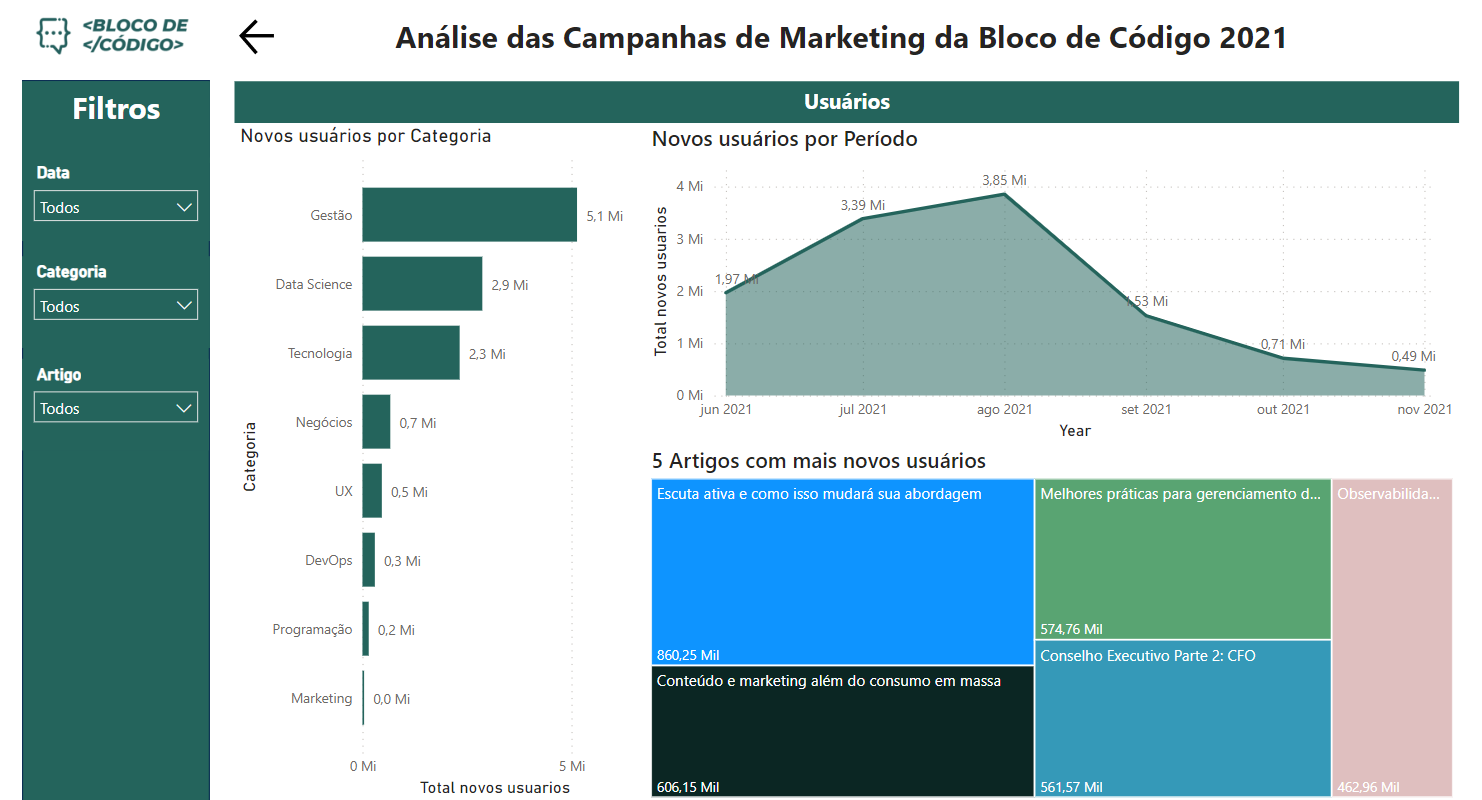

Layout of this report page (visuals, bound fields, positions):
{"tool":"powerbi","page":{"name":"Usuários","canvas":[1280,720],"ordinal":2},"visuals":[{"type":"image","box":[0,0,165.6,84.9],"z":0},{"type":"shape","box":[0,84.2,165.6,635.8],"z":1},{"type":"textbox","box":[165.1,21.8,1114.9,49.9],"z":2},{"type":"slicer","fields":{"Values":["Artigos.Data"]},"box":[0,151.7,165.6,73.7],"z":3},{"type":"slicer","fields":{"Values":["Artigos.Categoria"]},"box":[0,239.3,165.6,80.7],"z":4},{"type":"textbox","box":[0,84.9,165.6,72.3],"z":5},{"type":"textbox","box":[187.1,84.9,1079.4,36.9],"z":6},{"type":"slicer","fields":{"Values":["Artigos.Nome do artigo"]},"box":[0,329,165.1,80.6],"z":7},{"type":"clusteredBarChart","title":"Novos usuários por Categoria","fields":{"Category":["Artigos.Categoria"],"Y":["Valores.Total novos usuarios"]},"box":[187.1,121.8,363.1,598.2],"z":8},{"type":"actionButton","box":[187.1,25.8,99.7,40.6],"z":9},{"type":"stackedAreaChart","title":"Novos usuários por Período","fields":{"Y":["Valores.Total novos usuarios"],"Category":["Artigos.Data.Variation.Date Hierarchy.Year","Artigos.Data.Variation.Date Hierarchy.Quarter","Artigos.Data.Variation.Date Hierarchy.Month"]},"box":[550.2,121.8,716.3,283.1],"z":10},{"type":"treemap","title":"5 Artigos com mais novos usuários","fields":{"Group":["Artigos.Nome do artigo"],"Values":["Valores.Total novos usuarios"]},"box":[550,405,716,315],"z":11}]}

Visuals, with their boxes on the page's 1280x720 design canvas (x1, y1, x2, y2). These are canvas units, not pixel positions in the 1482x800 screenshot, which may show the page scaled, cropped or inside an application window:
image: x1=0, y1=0, x2=166, y2=85
shape: x1=0, y1=84, x2=166, y2=720
textbox: x1=165, y1=22, x2=1280, y2=72
slicer - Artigos.Data: x1=0, y1=152, x2=166, y2=225
slicer - Artigos.Categoria: x1=0, y1=239, x2=166, y2=320
textbox: x1=0, y1=85, x2=166, y2=157
textbox: x1=187, y1=85, x2=1266, y2=122
slicer - Artigos.Nome do artigo: x1=0, y1=329, x2=165, y2=410
"Novos usuários por Categoria" clusteredBarChart: x1=187, y1=122, x2=550, y2=720
actionButton: x1=187, y1=26, x2=287, y2=66
"Novos usuários por Período" stackedAreaChart: x1=550, y1=122, x2=1266, y2=405
"5 Artigos com mais novos usuários" treemap: x1=550, y1=405, x2=1266, y2=720
